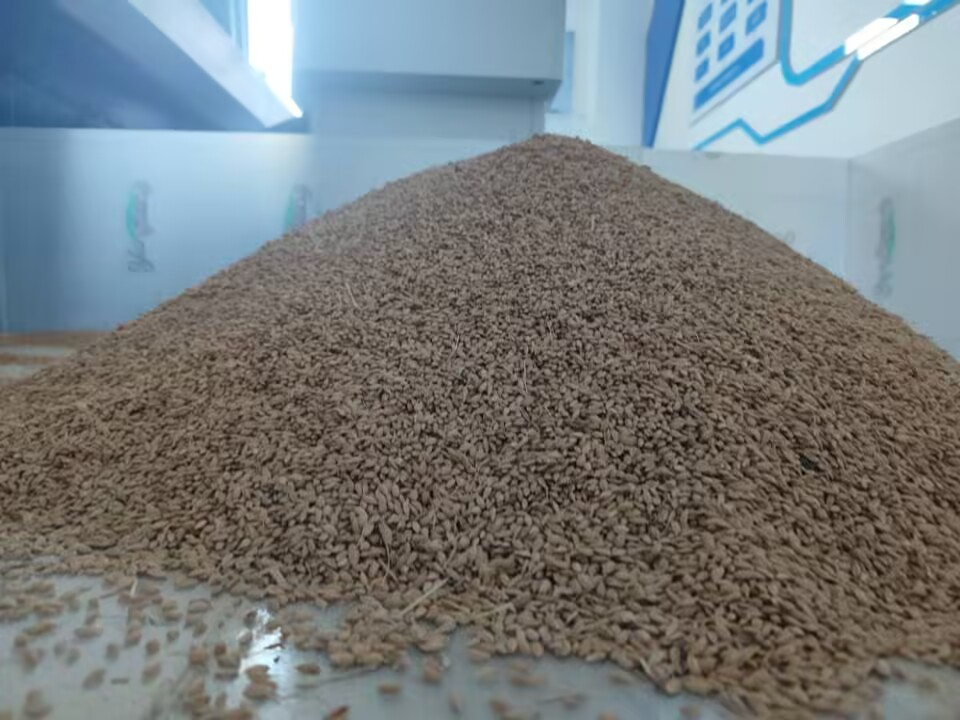Grain: (160, 123, 960, 630)
